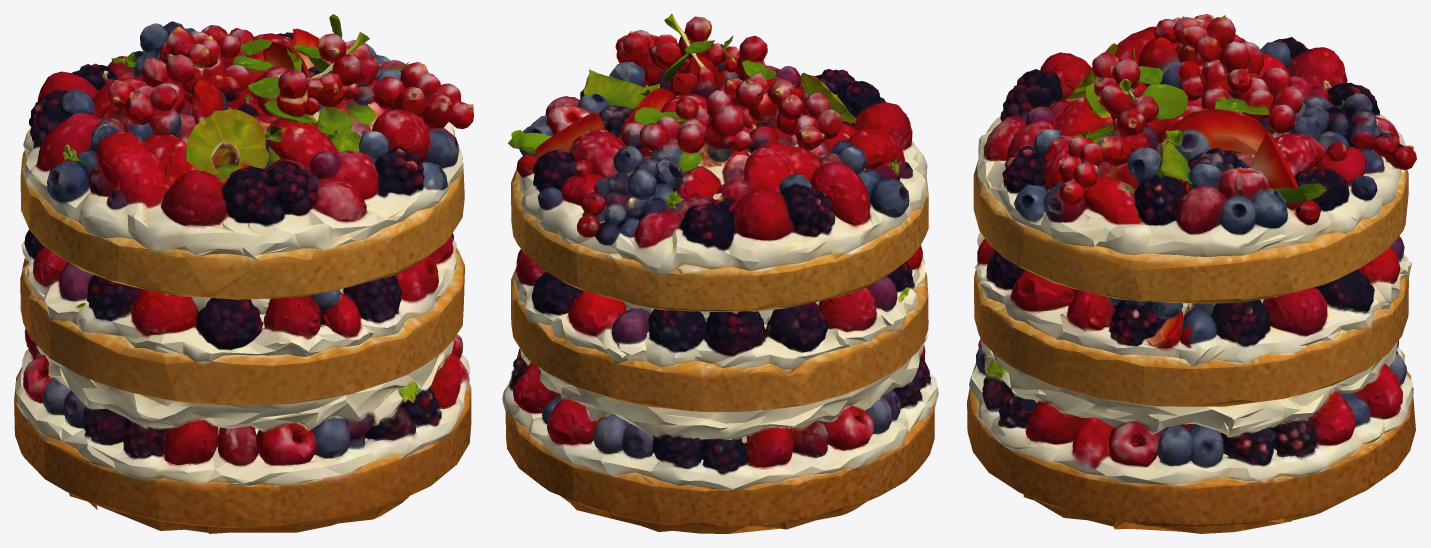
Rendered from berry_cake.glb.
The picture shows the model from 3 angles, left to right: view 1: azimuth 30°, elevation 25°; view 2: azimuth 150°, elevation 25°; view 3: azimuth 270°, elevation 25°; orthographic projection. The views are drawn at different scales.
Parts seen in each view (by area): view 1: output_unwrapped; view 2: output_unwrapped; view 3: output_unwrapped.
Boxes of the visible parts, bbox=[...] form: output_unwrapped: bbox=[14, 14, 473, 533]; output_unwrapped: bbox=[502, 14, 938, 533]; output_unwrapped: bbox=[967, 14, 1416, 533].
Size of the model in its own units: 1.86 by 1.9 by 1.87.
1 material, 1 textured.
